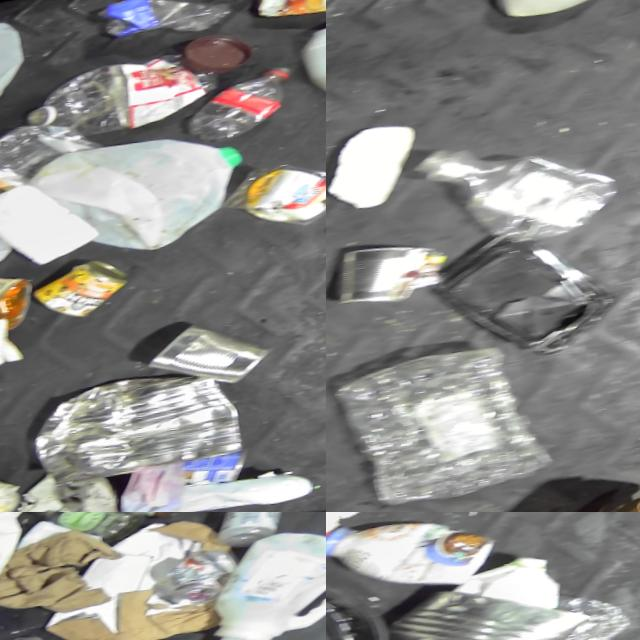can: (355, 569, 602, 640), (133, 314, 280, 404), (332, 236, 441, 315), (32, 254, 139, 331)
milk_jug: (28, 120, 257, 269), (203, 512, 326, 640), (0, 2, 35, 128), (0, 512, 48, 593)
plastic_bottle: (350, 345, 539, 508), (410, 117, 623, 255), (21, 45, 231, 145), (175, 61, 300, 150)
